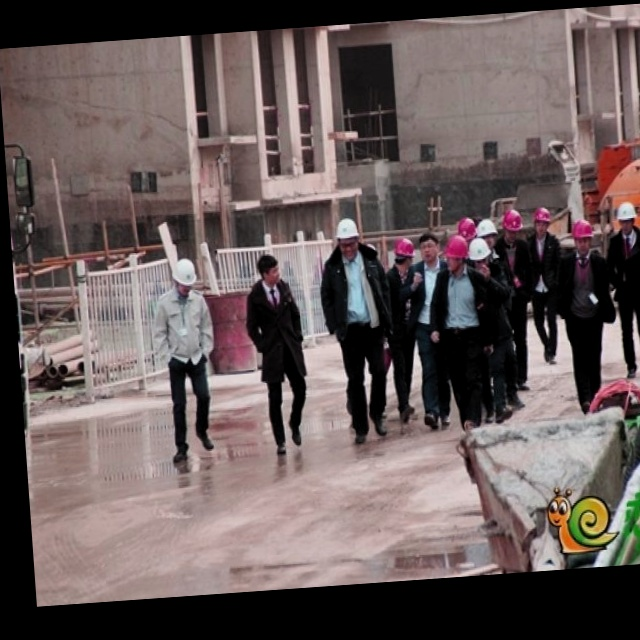Con_Casco: (334, 217, 364, 259), (172, 258, 199, 298)
Sin_Casco_Mascarrilla: (256, 254, 282, 290), (417, 231, 442, 264)
